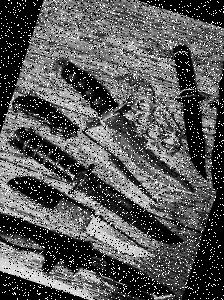knife: (35, 41, 199, 204), (0, 123, 192, 245), (4, 81, 161, 219), (0, 166, 164, 258), (0, 217, 178, 300), (167, 42, 210, 179), (207, 46, 224, 201)
